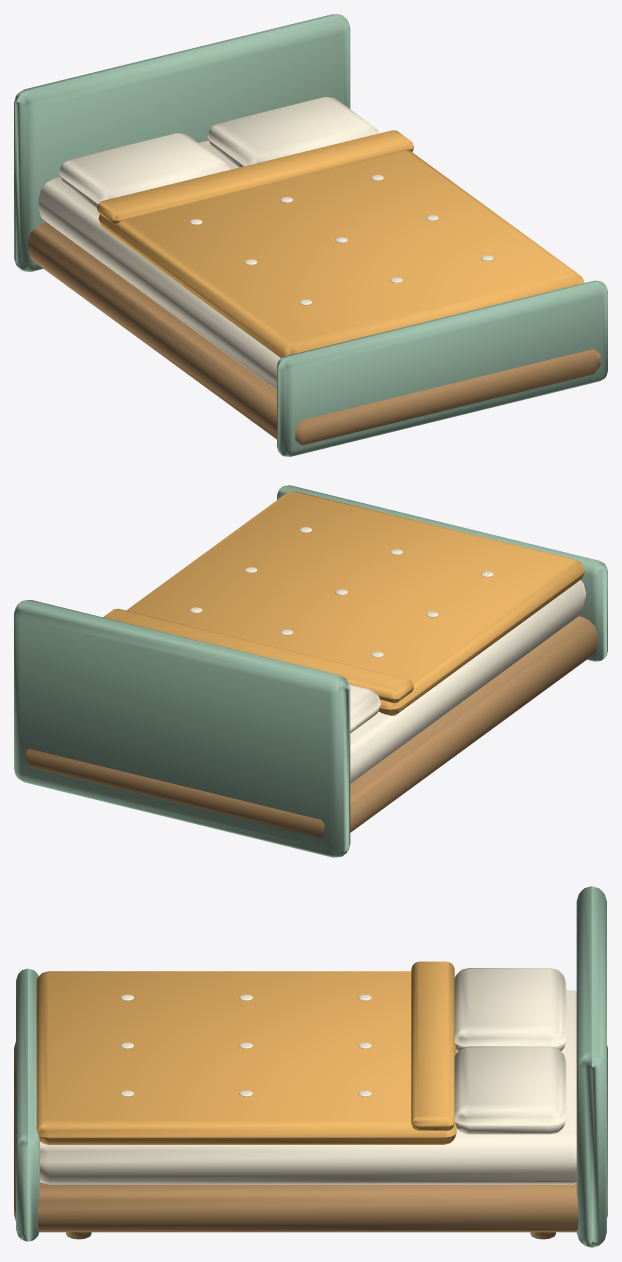
The model's file is rounded-bed.glb.
The picture shows the model from 3 angles, top to bottom: view 1: azimuth 30°, elevation 25°; view 2: azimuth 150°, elevation 25°; view 3: azimuth 270°, elevation 25°; orthographic projection. The views are drawn at different scales.
Visible parts, largest first — view 1: rounded-bed-ochre blanket, rounded-bed-sage upholstery, rounded-bed-cream accents, rounded-bed-honey wood; view 2: rounded-bed-sage upholstery, rounded-bed-ochre blanket, rounded-bed-honey wood, rounded-bed-cream accents; view 3: rounded-bed-ochre blanket, rounded-bed-cream accents, rounded-bed-honey wood, rounded-bed-sage upholstery.
Part boxes in pixels (x1,y1,x2,y2): rounded-bed-ochre blanket: (97,130,584,357); rounded-bed-sage upholstery: (14,14,607,456); rounded-bed-cream accents: (38,97,493,390); rounded-bed-honey wood: (28,222,600,445); rounded-bed-sage upholstery: (14,485,607,857); rounded-bed-ochre blanket: (103,491,584,715); rounded-bed-honey wood: (26,616,597,838); rounded-bed-cream accents: (189,527,585,783); rounded-bed-ochre blanket: (36,961,456,1144); rounded-bed-cream accents: (40,968,576,1184); rounded-bed-honey wood: (14,1042,607,1239); rounded-bed-sage upholstery: (16,886,606,1247).
Size of the model in its own units: 3.85 by 2.03 by 5.5.
